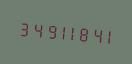eight: (77, 21, 88, 45)
four: (29, 16, 40, 41), (89, 22, 100, 46)
nine: (41, 17, 52, 42)
one: (53, 18, 64, 43), (65, 19, 76, 44), (101, 23, 112, 48)
three: (17, 15, 28, 40)
